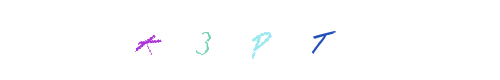3: (210, 0, 290, 80)
K: (107, 0, 187, 80)
P: (213, 0, 293, 80)
T: (281, 0, 361, 80)
